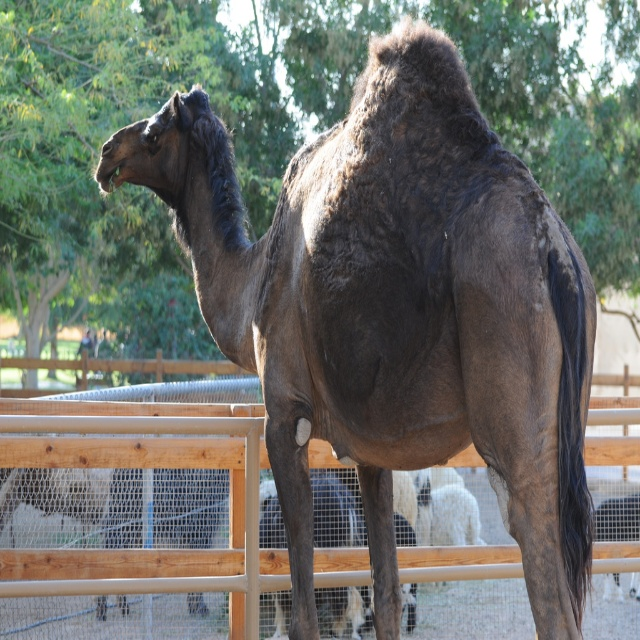Camel: (91, 12, 596, 639)
